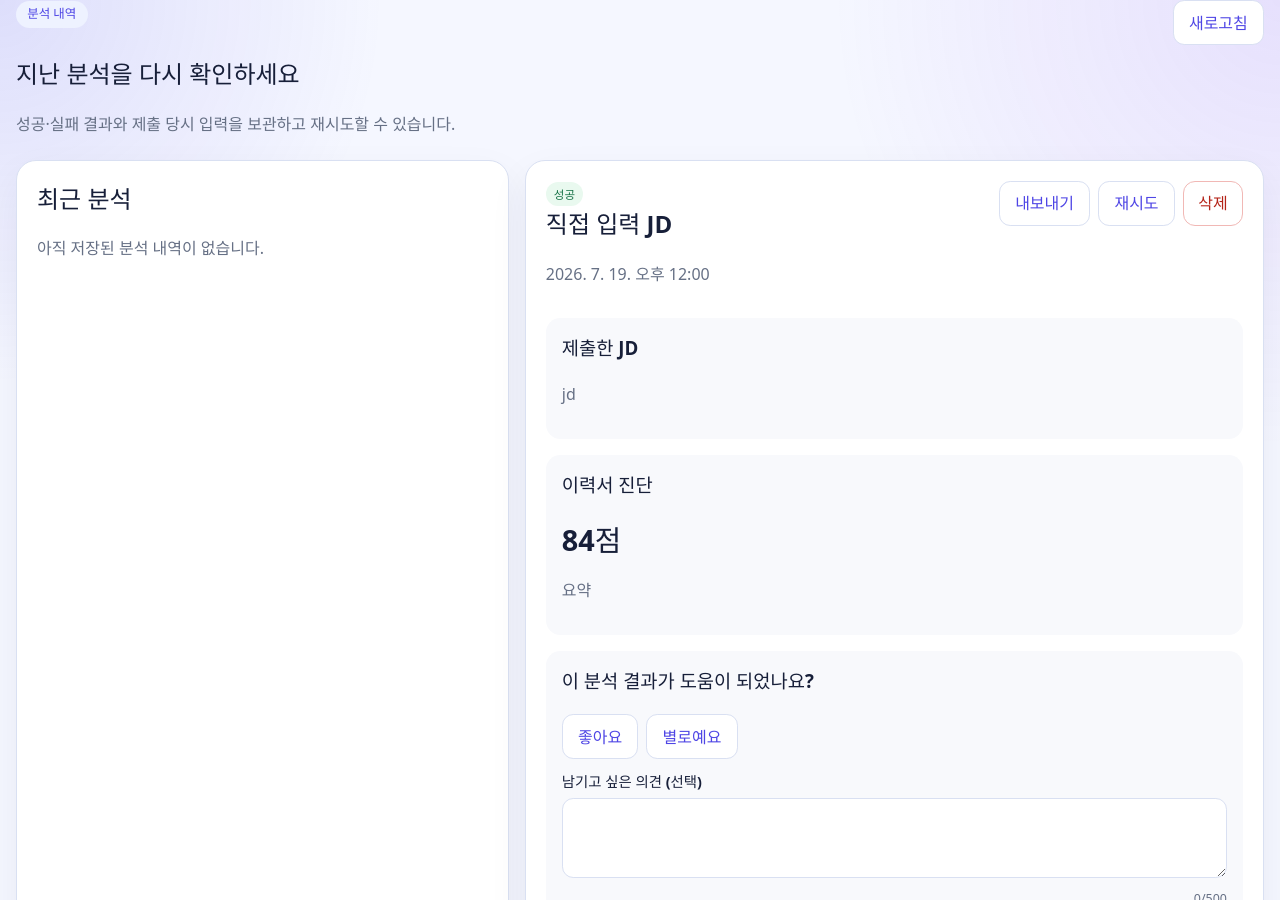
AnalysisHistoryView 피드백 위젯 › 제출 실패 시 서버 오류 메시지를 그대로 보여준다
The width and height of the screenshot is (1280, 900).
Step 1. Click the button "좋아요" → coordinates (600, 737), box [562, 714, 638, 760]
(page scrolled)
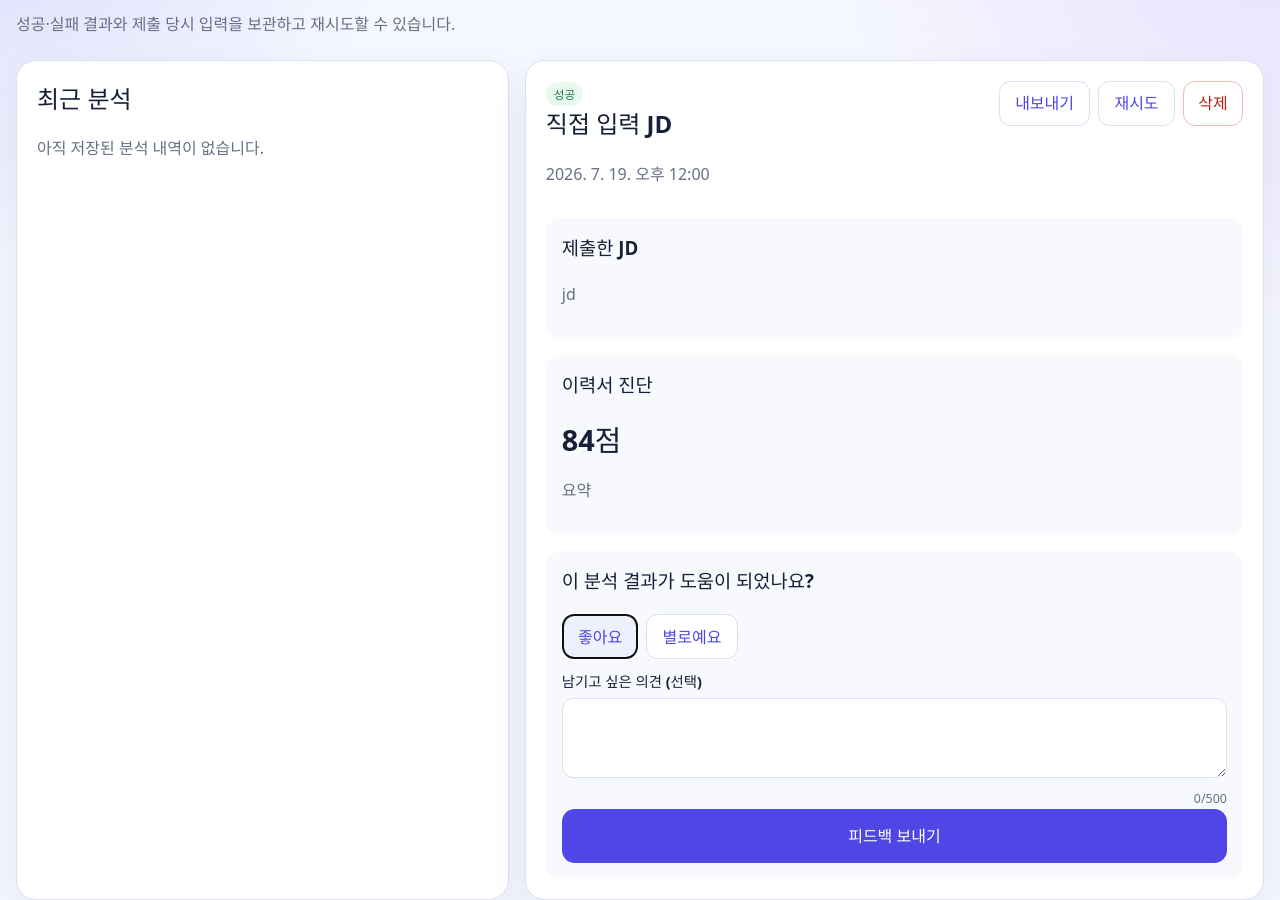
Step 2. Click the button "피드백 보내기" → coordinates (894, 836), box [562, 809, 1227, 863]
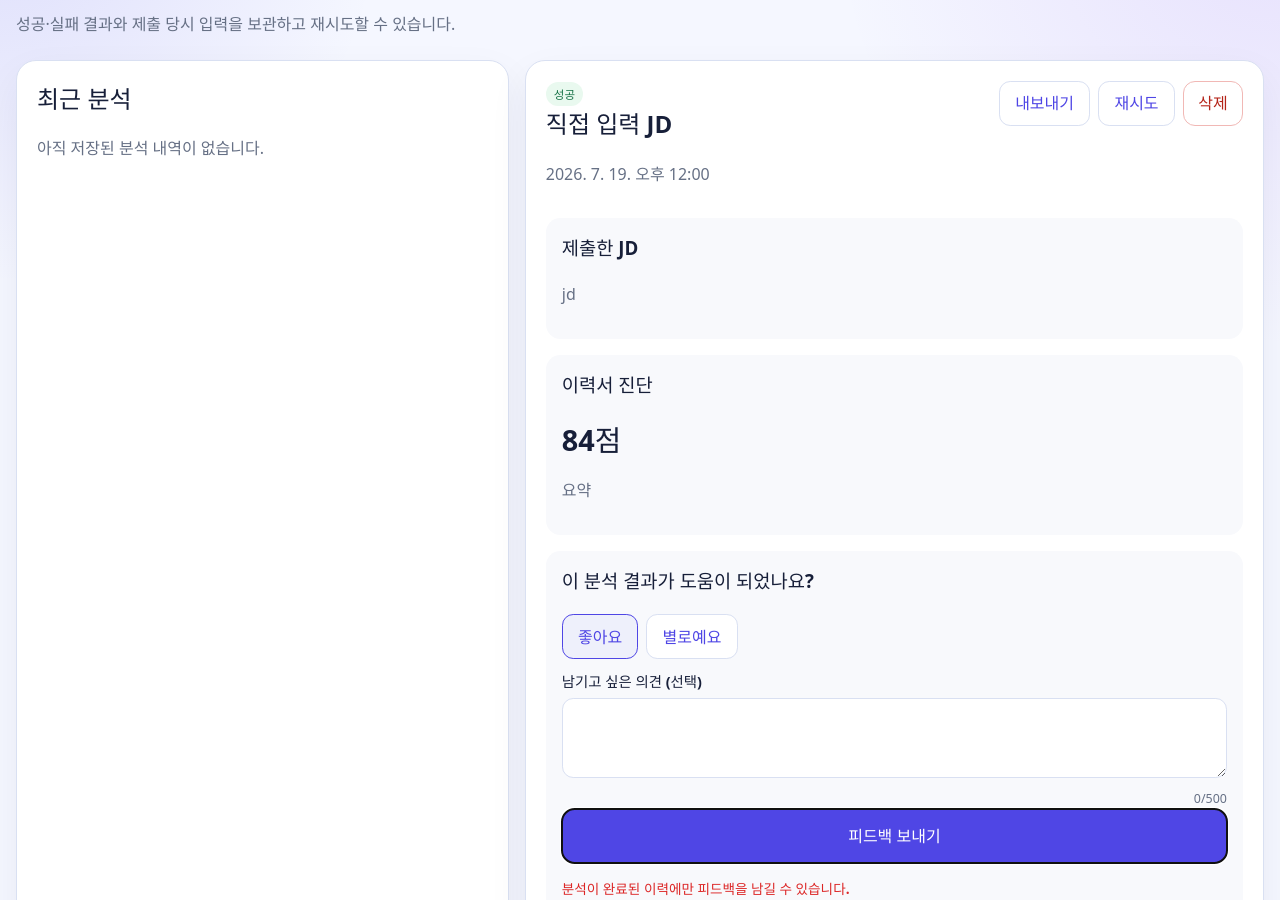
Expected: the message reads "분석이 완료된 이력에만 피드백을 남길 수 있습니다.", [562, 879, 850, 898]
